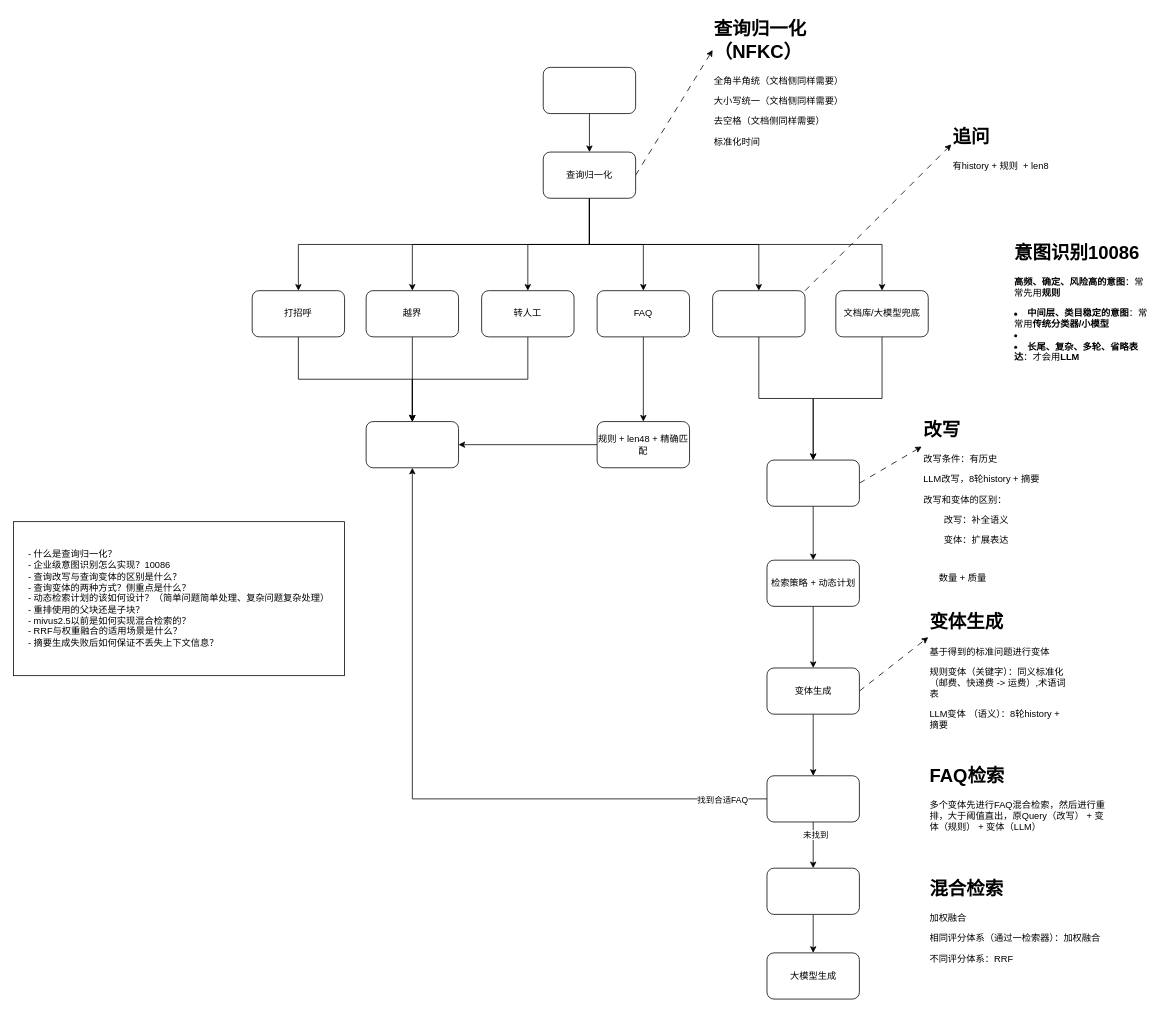
The diagram is 1166 pixels wide and 1013 high, and some of its shapes have lost their labels. The shapes that lost their labels are listed below. From the top down, each one's centre as x and y in pixels, then its label:
At pixel 589 90: "用户提问".
At pixel 758 313: "追问".
At pixel 412 444: "直出".
At pixel 812 482: "改写".
At pixel 812 798: "检索FAQ库".
At pixel 812 890: "检索文档库".
